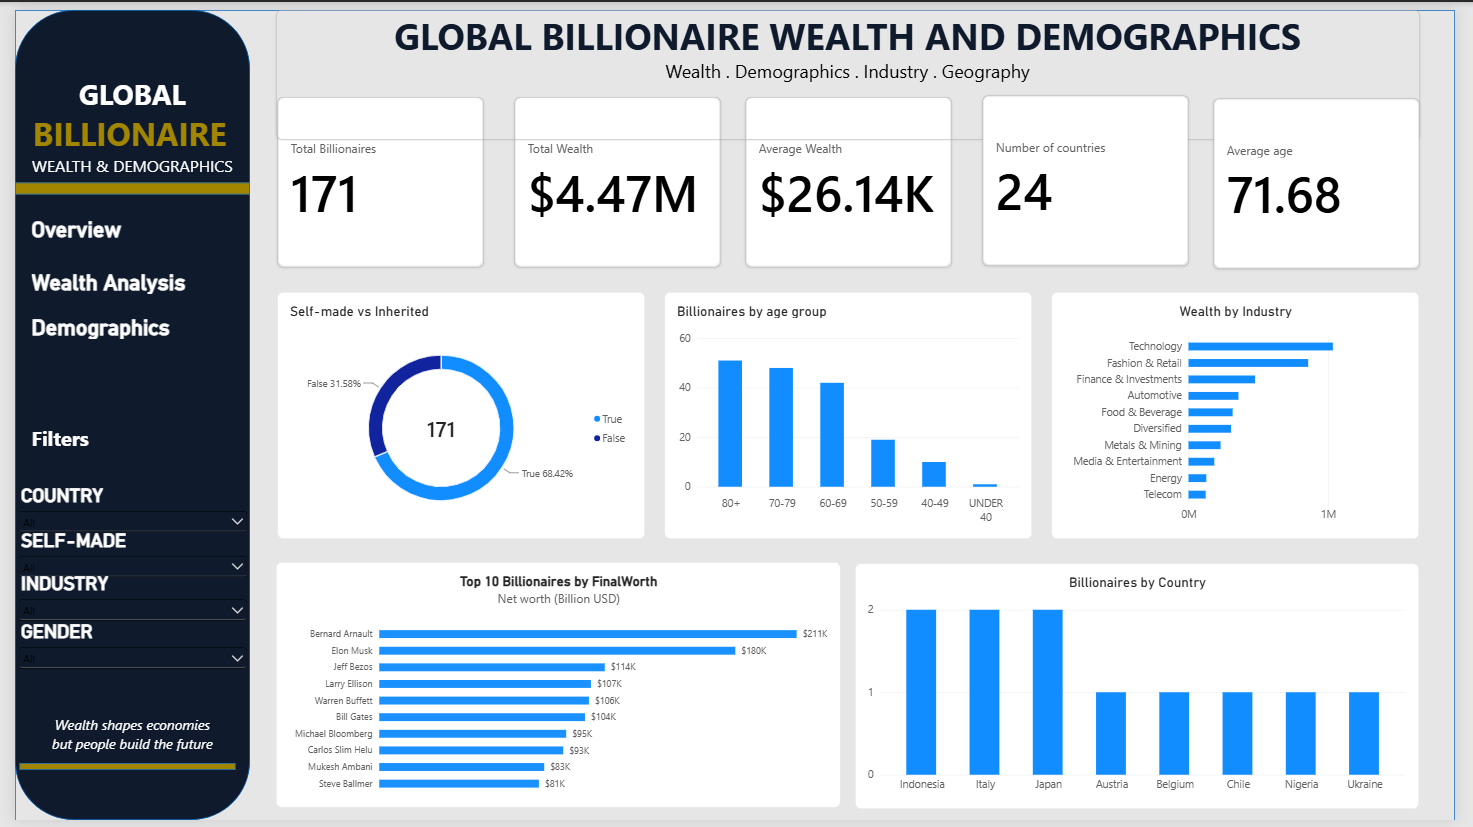

The page's visual inventory and layout, read from the dashboard file:
{"tool":"powerbi","page":{"name":"OVERVIEW","canvas":[1920,1080],"ordinal":0},"visuals":[{"type":"shape","box":[0,0,1920,1081.1],"z":0},{"type":"cardVisual","fields":{"Data":["Table1__2.Total Billionaires"]},"box":[349.7,116.6,275,227.5],"z":1000},{"type":"shape","box":[0,0,313.3,1080],"z":2000},{"type":"cardVisual","fields":{"Data":["Table1__2.Average Wealth"]},"box":[973.7,116.6,275,227.5],"z":3000},{"type":"cardVisual","fields":{"Data":["Table1__2.Total Wealth"]},"box":[665.1,116.6,275,227.5],"z":4000},{"type":"textbox","box":[347.5,0,1525,172.5],"z":5000},{"type":"cardVisual","fields":{"Data":["Table1__2.Number of countries"]},"box":[1289.1,114.3,275,227.5],"z":6000},{"type":"barChart","title":"Top 10 Billionaires by FinalWorth","fields":{"Category":["Table1__2.NAME"],"Y":["Sum(Table1__2.finalWorth)"]},"box":[347.5,735,752.5,327.5],"z":7000},{"type":"clusteredColumnChart","title":"Billionaires by Country","fields":{"Category":["Table1__2.COUNTRY"],"Y":["CountNonNull(Table1__2.NAME)"]},"box":[1120,737.5,752,327],"z":8000},{"type":"clusteredBarChart","title":"Wealth by Industry","fields":{"Category":["Table1__2.industries"],"Y":["Sum(Table1__2.finalWorth)"]},"box":[1382.5,375,490,329],"z":9000},{"type":"donutChart","title":"Self-made vs Inherited ","fields":{"Category":["Table1__2.selfMade"],"Y":["CountNonNull(Table1__2.NAME)"]},"box":[349,375,490,329],"z":10000},{"type":"slicer","title":"COUNTRY","fields":{"Values":["Table1__2.COUNTRY"]},"box":[0,632,314,90],"z":11000},{"type":"slicer","title":"COUNTRY","fields":{"Values":["Table1__2.gender"]},"box":[0,814,314,90],"z":12000},{"type":"slicer","title":"COUNTRY","fields":{"Values":["Table1__2.selfMade"]},"box":[0,692,314,90],"z":13000},{"type":"slicer","title":"COUNTRY","fields":{"Values":["Table1__2.industries"]},"box":[0,750,314,90],"z":14000},{"type":"clusteredColumnChart","title":"Billionaires by age group","fields":{"Category":["Table1__2.AGE GROUP"],"Y":["CountNonNull(Table1__2.NAME)"]},"box":[865,375,490,329],"z":15000},{"type":"cardVisual","fields":{"Data":["Table1__2.Average age"]},"box":[1597.5,117.5,275,227],"z":16000},{"type":"textbox","box":[0,939.4,313.1,73.1],"z":17000},{"type":"shape","box":[6.9,1003.4,288,9.1],"z":18000},{"type":"textbox","box":[0,86.9,313.1,144],"z":19000},{"type":"shape","box":[0,230.9,313.1,16],"z":20000},{"type":"textbox","box":[22.9,477.7,290.3,121.1],"z":21000},{"type":"actionButton","title":"Overview","box":[22.9,276.6,269.7,43.4],"z":22000},{"type":"actionButton","title":"Wealth Analysis","box":[22.9,345.1,269.7,43.4],"z":23000},{"type":"actionButton","title":"Demographics","box":[22.9,406.9,269.7,43.4],"z":24000}]}

Visuals, with their boxes in screenshot pixels (x1, y1, x2, y2), scaled from the page's 1920x1080 canvas onto the 1473x827 screenshot:
shape: box(0, 0, 1472, 826)
cardVisual - Table1__2.Total Billionaires: box(268, 89, 479, 263)
shape: box(0, 0, 240, 826)
cardVisual - Table1__2.Average Wealth: box(747, 89, 958, 263)
cardVisual - Table1__2.Total Wealth: box(510, 89, 721, 263)
textbox: box(267, 0, 1437, 132)
cardVisual - Table1__2.Number of countries: box(989, 88, 1200, 262)
"Top 10 Billionaires by FinalWorth" barChart: box(267, 563, 844, 814)
"Billionaires by Country" clusteredColumnChart: box(859, 565, 1436, 815)
"Wealth by Industry" clusteredBarChart: box(1061, 287, 1437, 539)
"Self-made vs Inherited " donutChart: box(268, 287, 644, 539)
"COUNTRY" slicer: box(0, 484, 241, 553)
"COUNTRY" slicer: box(0, 623, 241, 692)
"COUNTRY" slicer: box(0, 530, 241, 599)
"COUNTRY" slicer: box(0, 574, 241, 643)
"Billionaires by age group" clusteredColumnChart: box(664, 287, 1040, 539)
cardVisual - Table1__2.Average age: box(1226, 90, 1437, 264)
textbox: box(0, 719, 240, 775)
shape: box(5, 768, 226, 775)
textbox: box(0, 67, 240, 177)
shape: box(0, 177, 240, 189)
textbox: box(18, 366, 240, 459)
"Overview" actionButton: box(18, 212, 224, 245)
"Wealth Analysis" actionButton: box(18, 264, 224, 297)
"Demographics" actionButton: box(18, 312, 224, 345)
